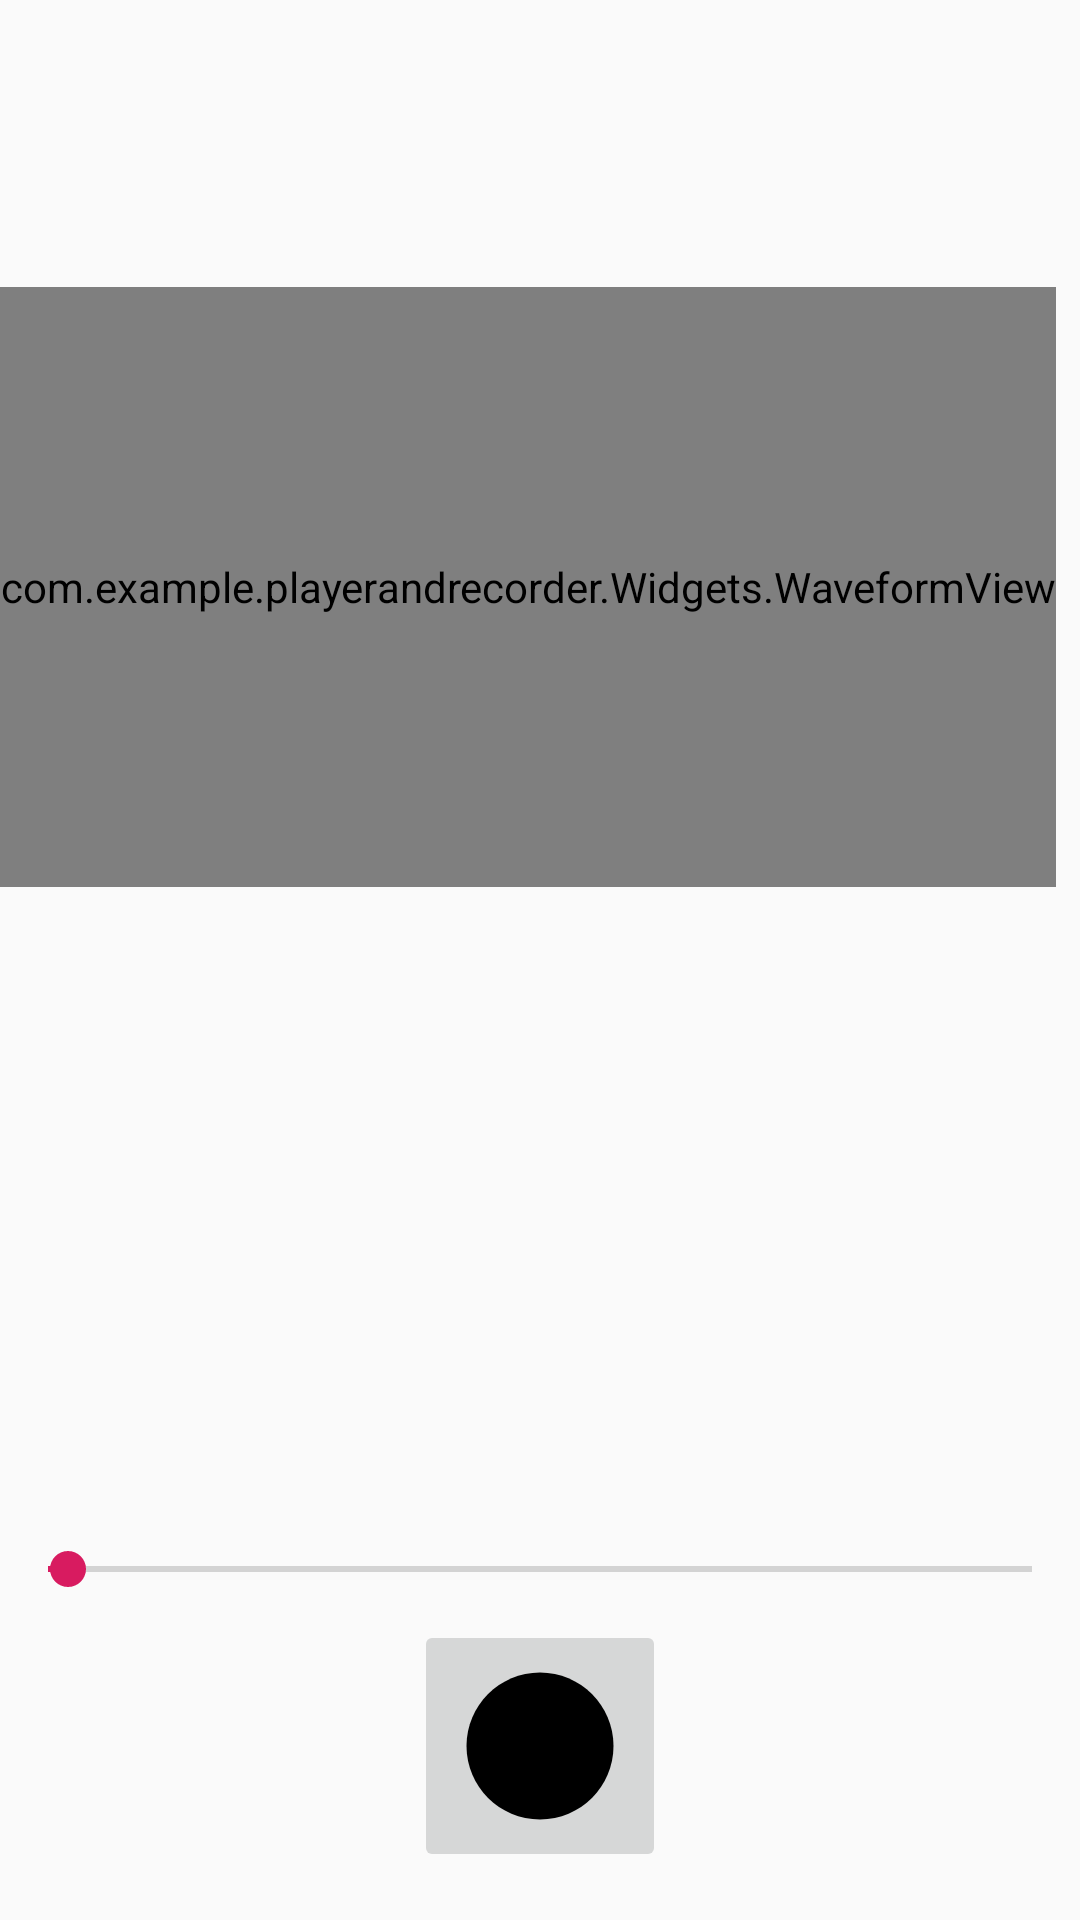

Where to tap for icons on this 1080 x 1920 app screen, as point (x, y):
record: point (540, 1746)
